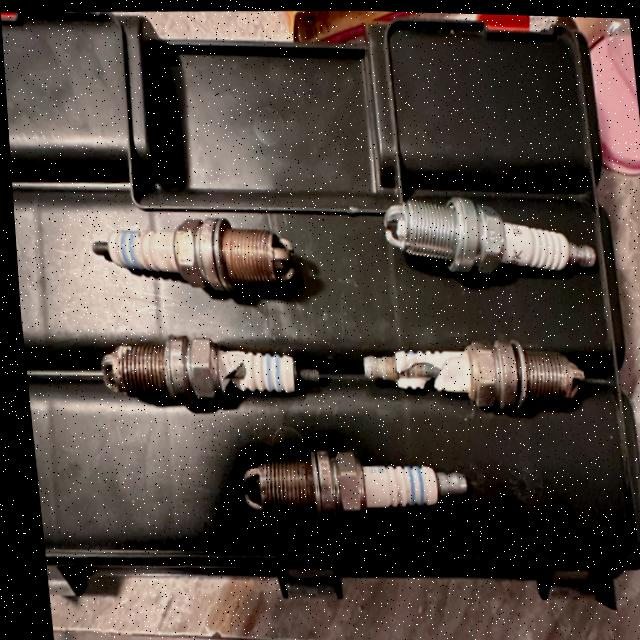damaged_spark-plug: (352, 325, 581, 414), (86, 324, 318, 411)
spark-plug: (378, 187, 600, 289), (232, 444, 465, 523), (90, 212, 300, 290)
